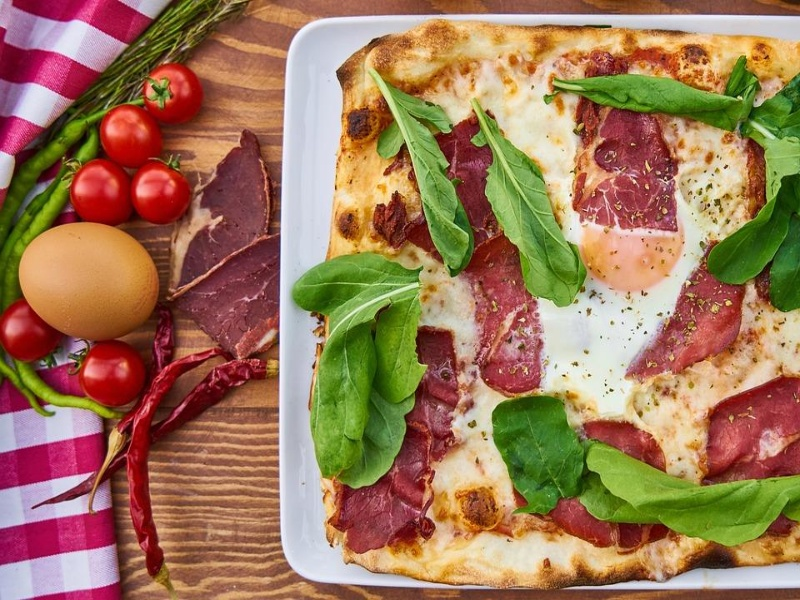oeuf: (577, 212, 688, 299)
